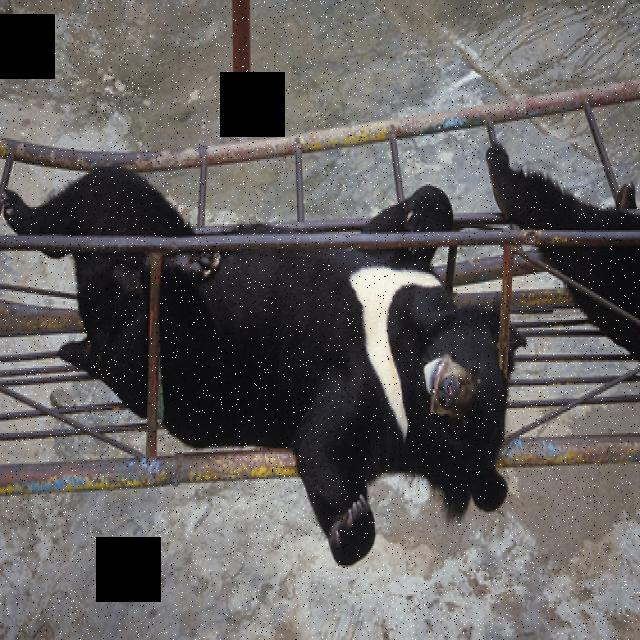Bear: (10, 138, 522, 565)
